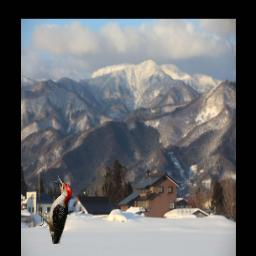Woodpecker: (35, 176, 71, 245)
